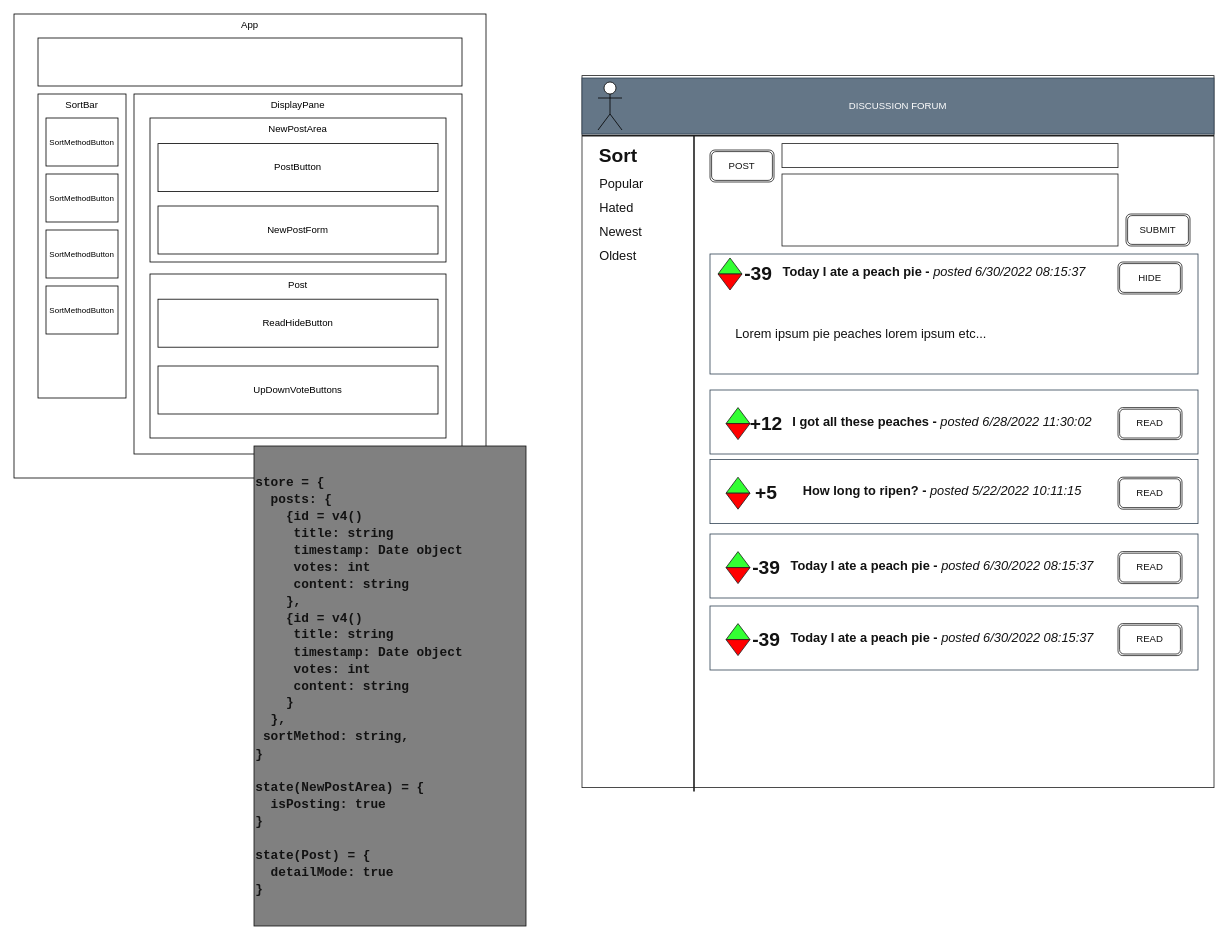
This 1229x940 diagram has some shape labels left out. Here are the shapes that lost their labels. From the top down, the centre of each, then its label:
At point (249, 61): "HEADER".
At point (609, 105): "Actor".
